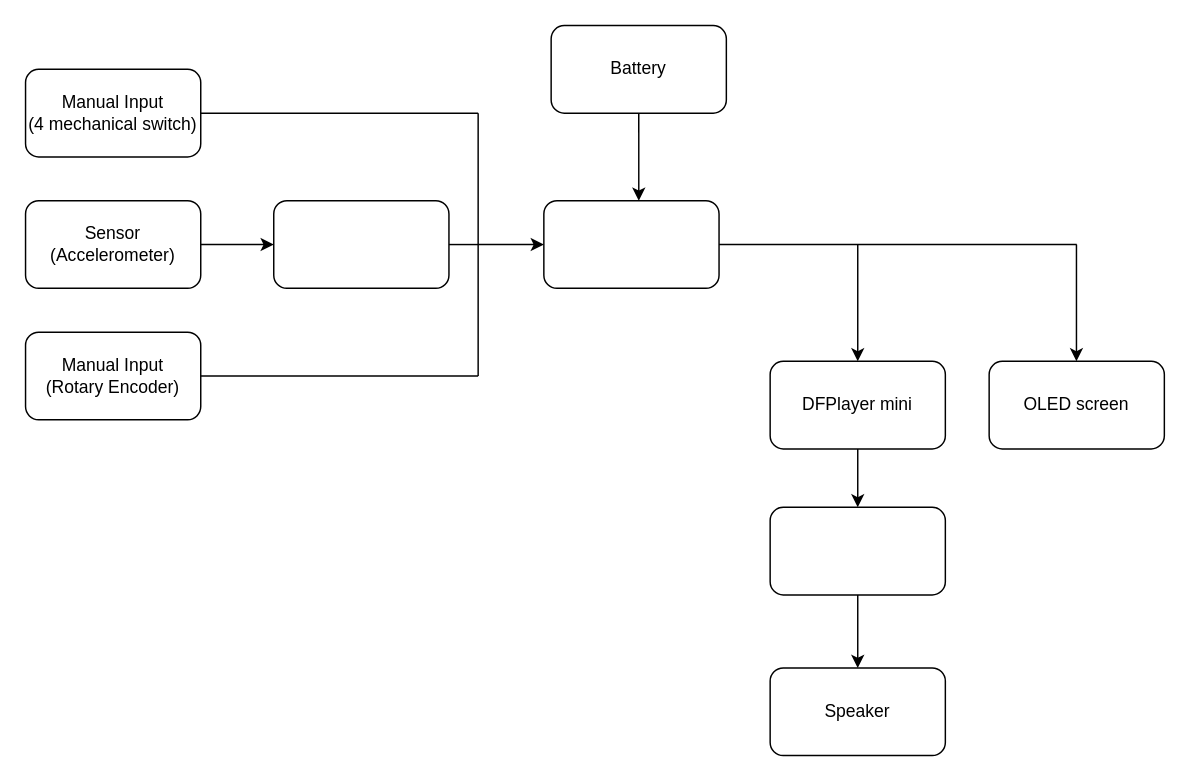
This 1190x781 diagram has some shape labels left out. Here are the shapes that lost their labels. From the top down, the box of each, then its label:
(272, 199, 449, 288): ADC
(542, 199, 719, 288): microcontroller
(769, 506, 945, 595): DAC
